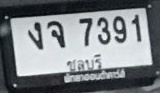txt05: (27, 21, 44, 51)
txt06: (46, 20, 66, 49)
